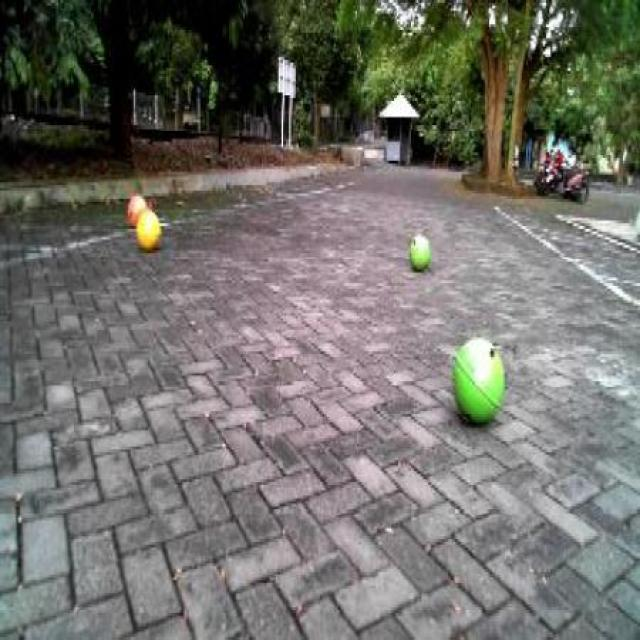buoy: (450, 323, 507, 431), (132, 199, 164, 256), (408, 224, 433, 274), (124, 185, 146, 226)
